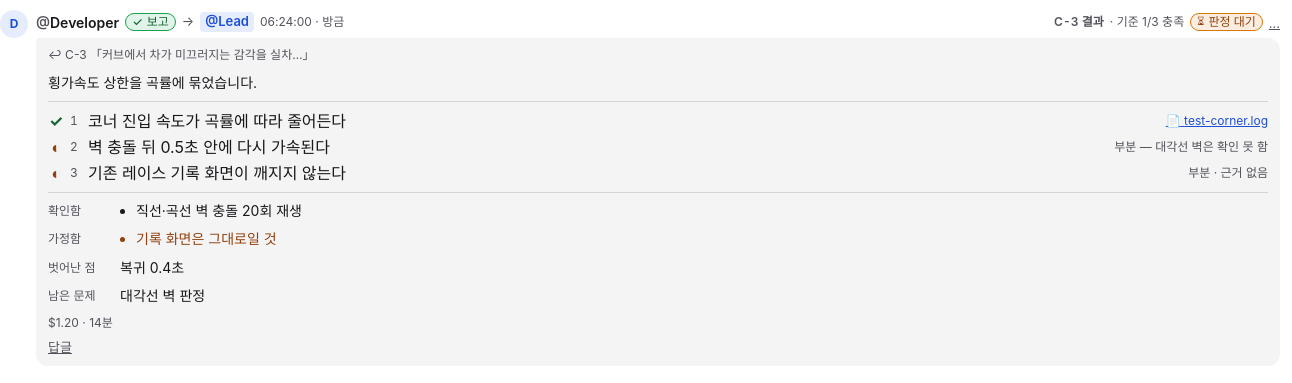
Test: 사람의 되돌리기 — 「⋯」 메뉴는 TaskCard.actions 만 본다 › 카드 이벤트가 말풍선보다 먼저(처음 보는 카드 · 방송 actions 버림) — 결과 말풍선이 getCard(actions) 를 부탁하고, 받으면 메뉴가 선다 (#397 B1)
Expected: the element with test id "card-head" is shown, [1054,13,1263,31]
What coordinates should you click on to do the following:
click the button with test id "message-menu"
I would click on:
 (1274, 24)
Its box is [1269,14,1280,34].
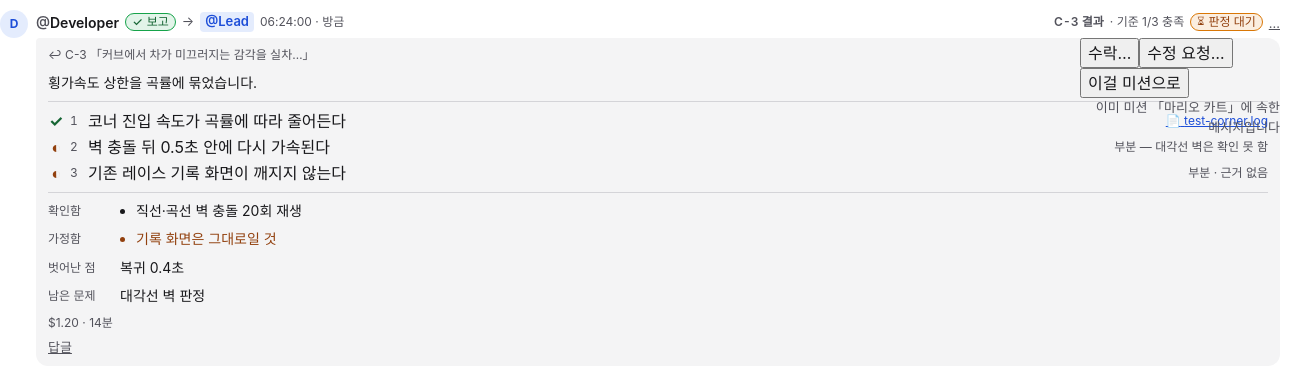
Result: the menu item with test id "card-menu-accept" is shown at [1080,38,1139,68]
